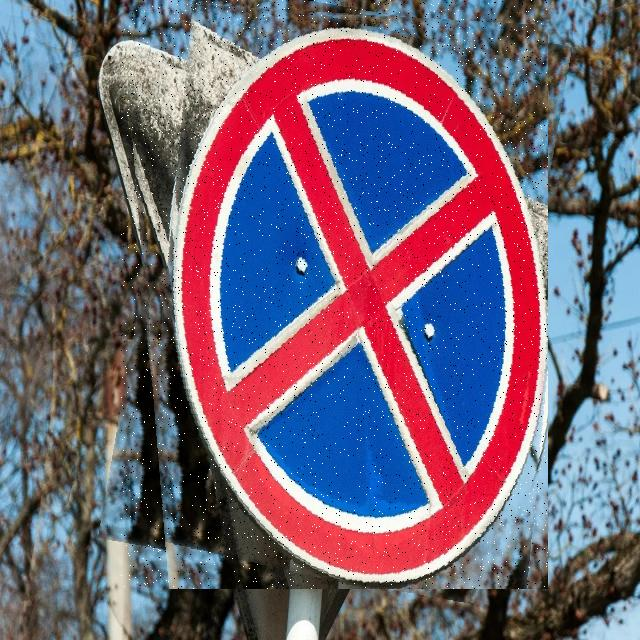no stopping: (121, 0, 548, 589)
